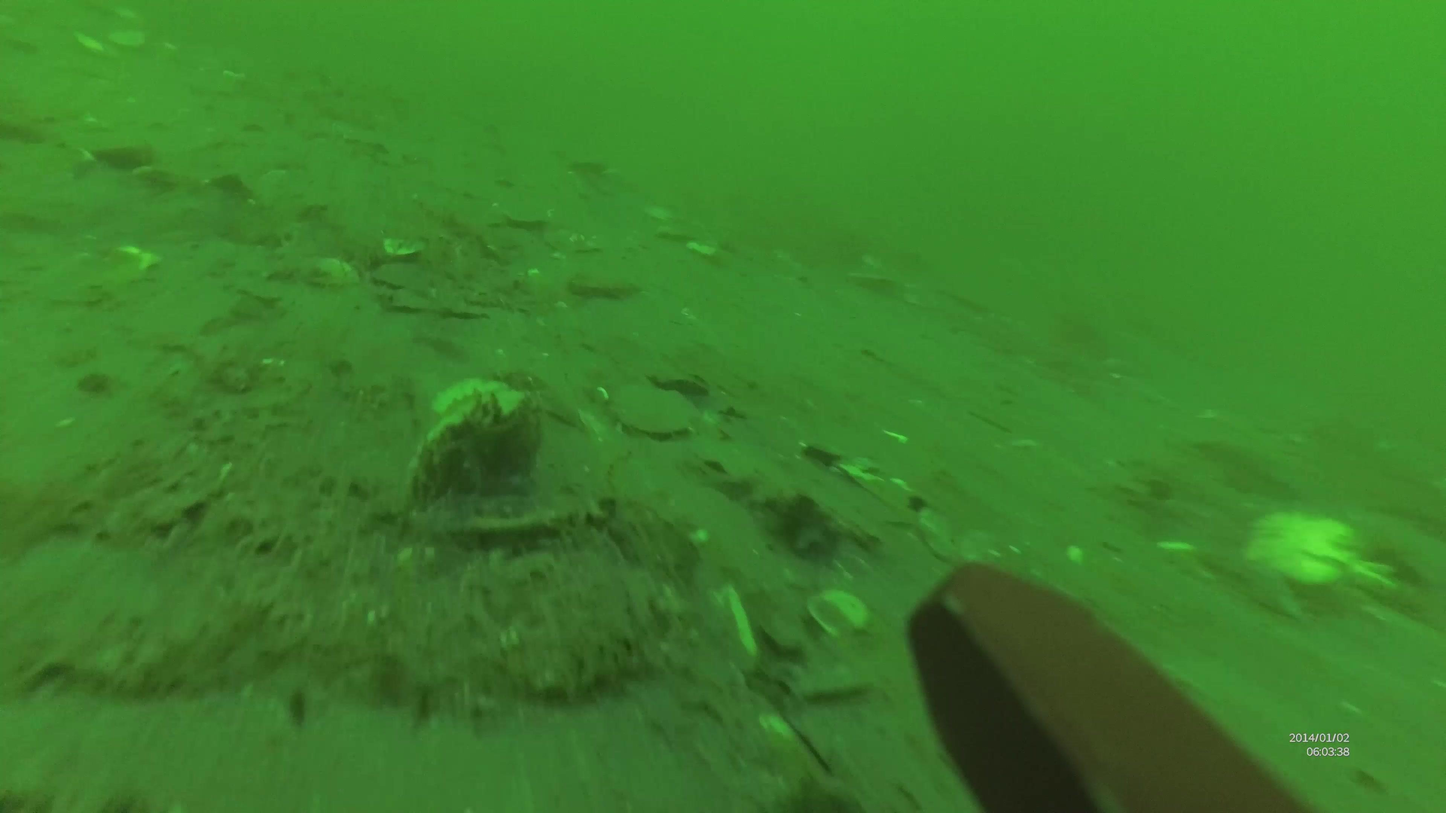scallop: (612, 379, 699, 438)
